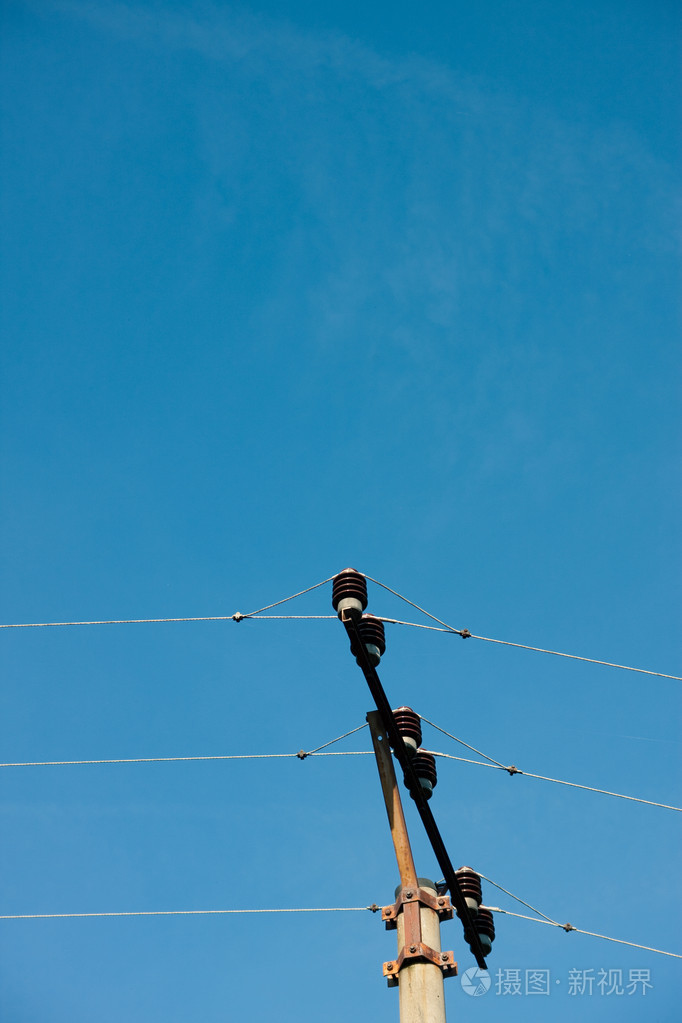insulator: (326, 570, 365, 616), (360, 617, 393, 650), (411, 749, 439, 785), (453, 871, 480, 906), (392, 710, 425, 738), (473, 908, 498, 944)
